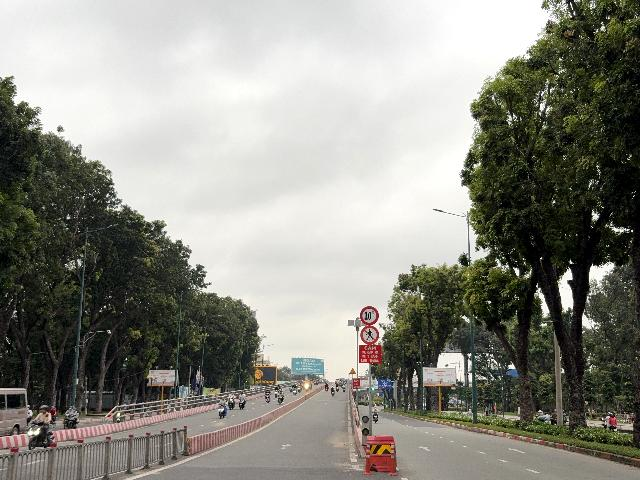cam-nguoi-di-bo: (360, 325, 379, 344)
han-che-trong-luong-xe: (360, 306, 379, 325)
